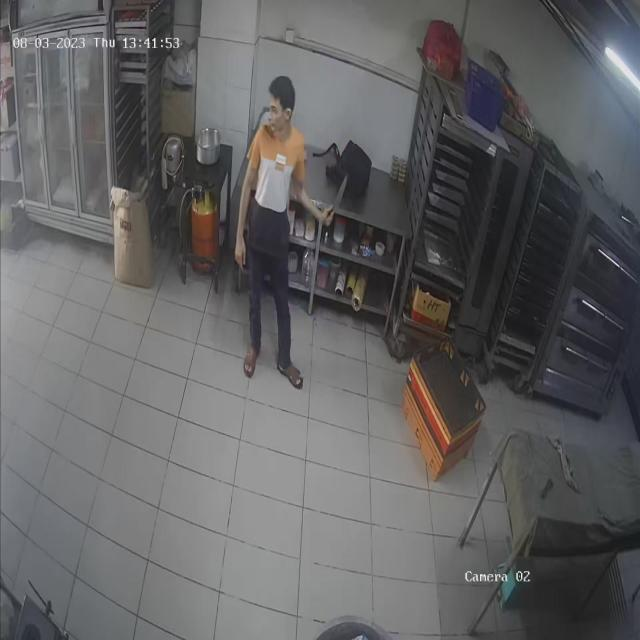Knife: (322, 176, 354, 226)
